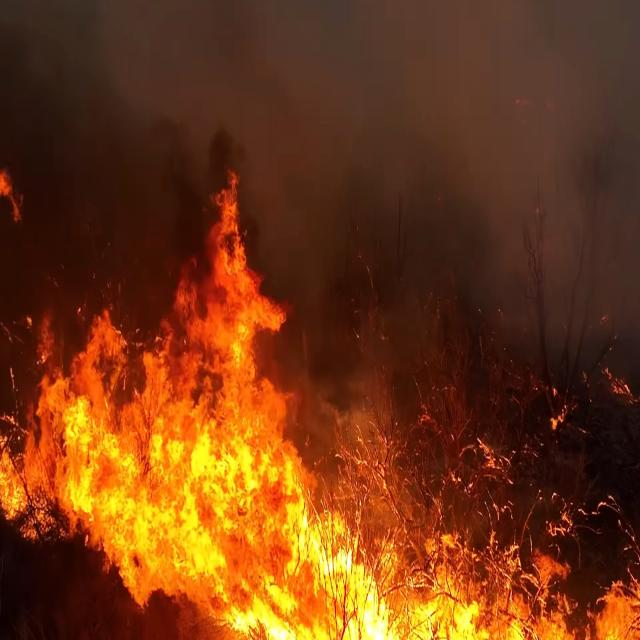fire: (0, 163, 295, 578), (248, 406, 440, 640), (437, 489, 640, 639)
